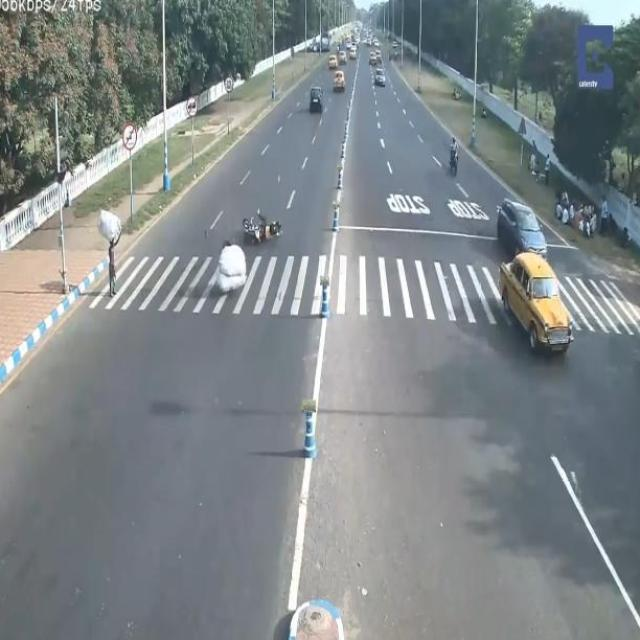accident: (244, 206, 282, 246)
